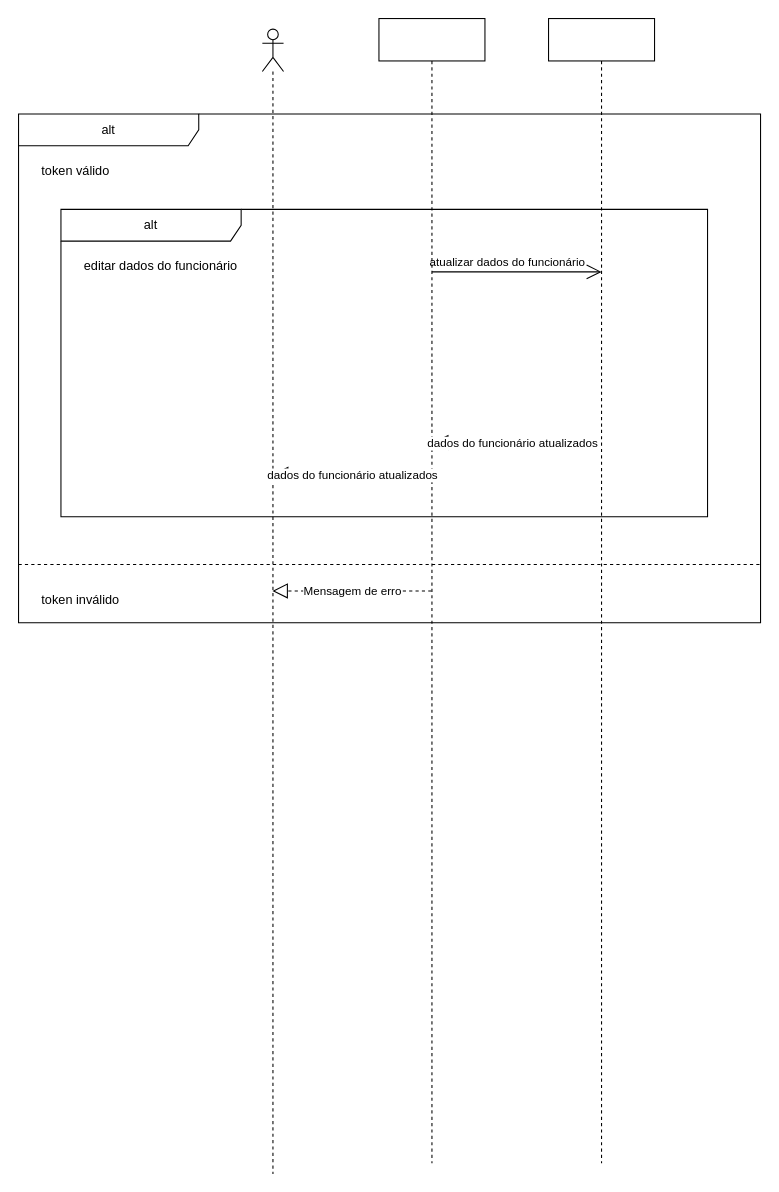
This 779x1192 diagram has some shape labels left out. The shapes that lost their labels are listed below. From the top down, each one's box as (x1, y1, x2, y2) in pixels, then its label:
(378, 17, 485, 1163): Sistema
(547, 17, 655, 1163): Banco de dados
